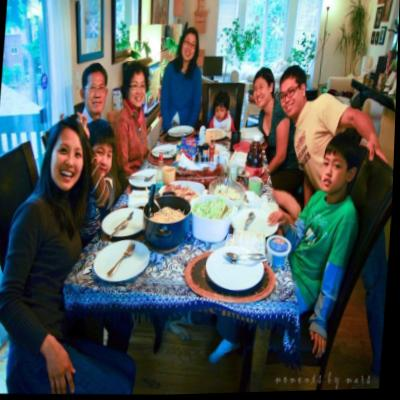happy: (54, 131, 85, 185), (83, 68, 108, 115), (278, 76, 304, 118), (129, 70, 149, 113), (180, 33, 196, 65), (253, 80, 271, 107)
netural: (214, 104, 229, 122)
surprise: (320, 150, 348, 197)
